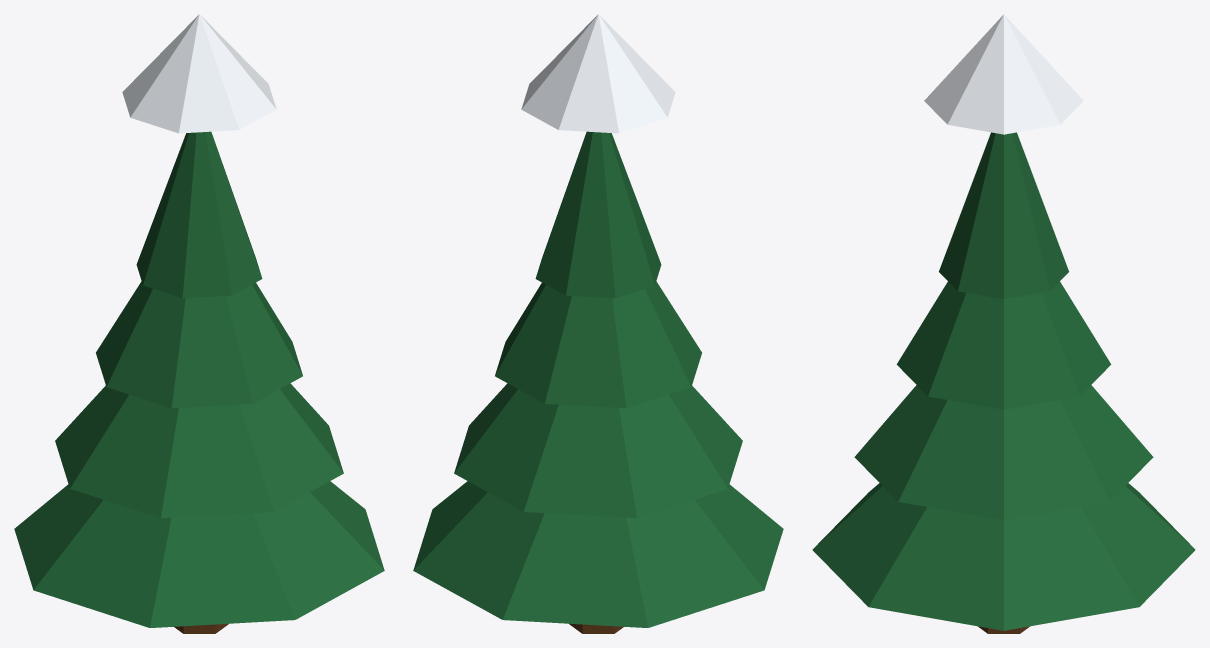
Rendered from pine_snow.glb.
The picture shows the model from 3 angles, left to right: view 1: azimuth 30°, elevation 25°; view 2: azimuth 150°, elevation 25°; view 3: azimuth 270°, elevation 25°; orthographic projection.
Visible parts, largest first — view 1: pine_snow; view 2: pine_snow; view 3: pine_snow.
Boxes of the visible parts, left/top/right/bottom form: pine_snow: left=14, top=14, right=384, bottom=633; pine_snow: left=413, top=14, right=783, bottom=633; pine_snow: left=812, top=14, right=1195, bottom=633.
Bounding box in the file's own units: 2.4 × 4.2 × 2.4.
